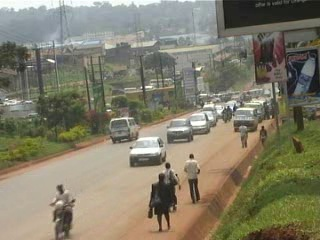Car: (126, 136, 170, 169), (162, 117, 193, 143), (188, 112, 210, 135), (200, 111, 218, 126), (215, 102, 226, 120)
Motorcycle: (48, 182, 80, 238), (219, 108, 229, 124), (226, 104, 231, 121)
